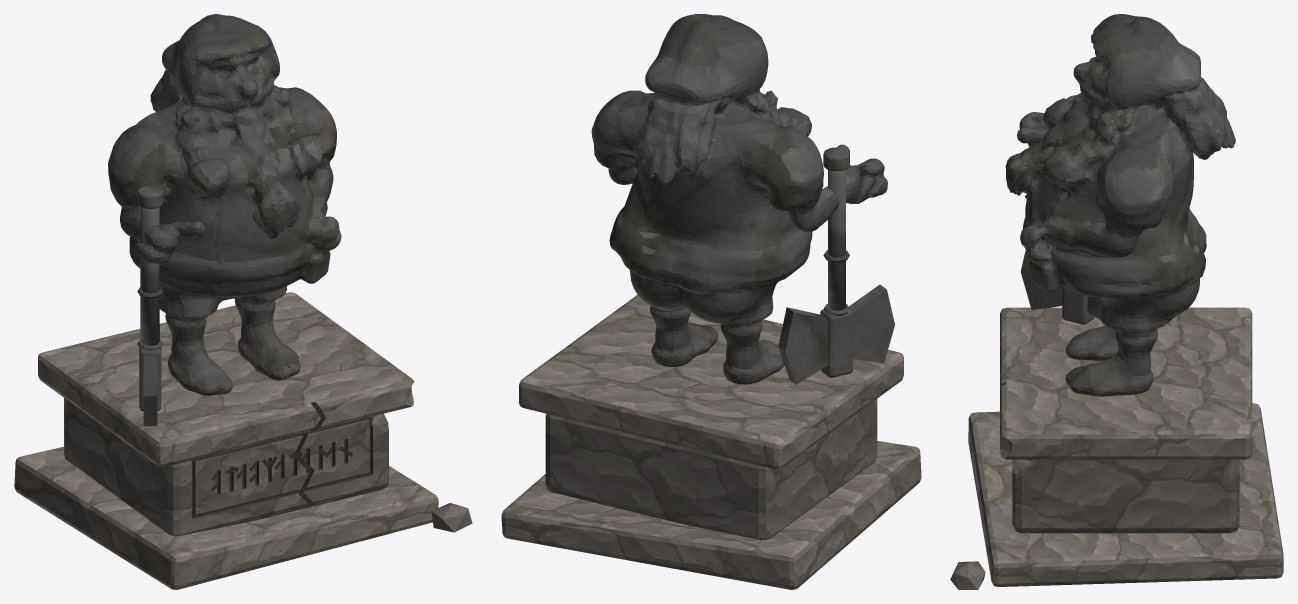
Rendered from statue_cracked_plinth.glb.
The picture shows the model from 3 angles, left to right: view 1: azimuth 30°, elevation 25°; view 2: azimuth 150°, elevation 25°; view 3: azimuth 270°, elevation 25°; orthographic projection. The views are drawn at different scales.
Visible parts, largest first — view 1: model; view 2: model; view 3: model.
Boxes of the visible parts, x1,y1,x2,y2 form: model: (14, 14, 472, 589); model: (501, 14, 921, 589); model: (950, 14, 1283, 589).
Size of the model in its own units: 1.16 by 1.74 by 1.06.
Materials: 4 (3 with a texture image).
